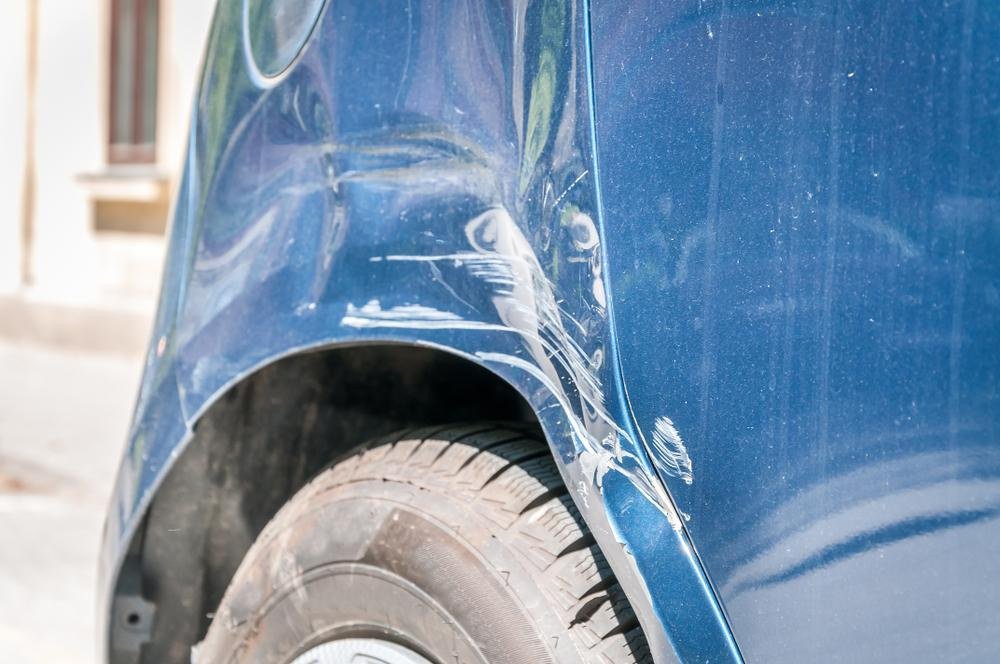dent: (185, 70, 568, 406)
scratch: (545, 303, 687, 533), (649, 411, 697, 489)
